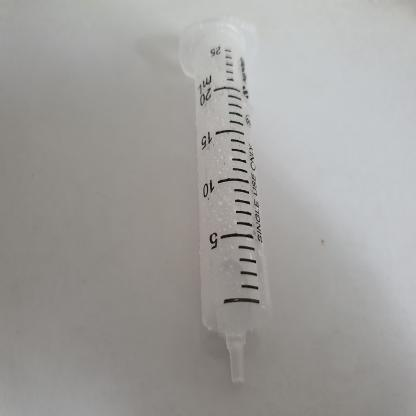wet: (166, 10, 301, 404)
